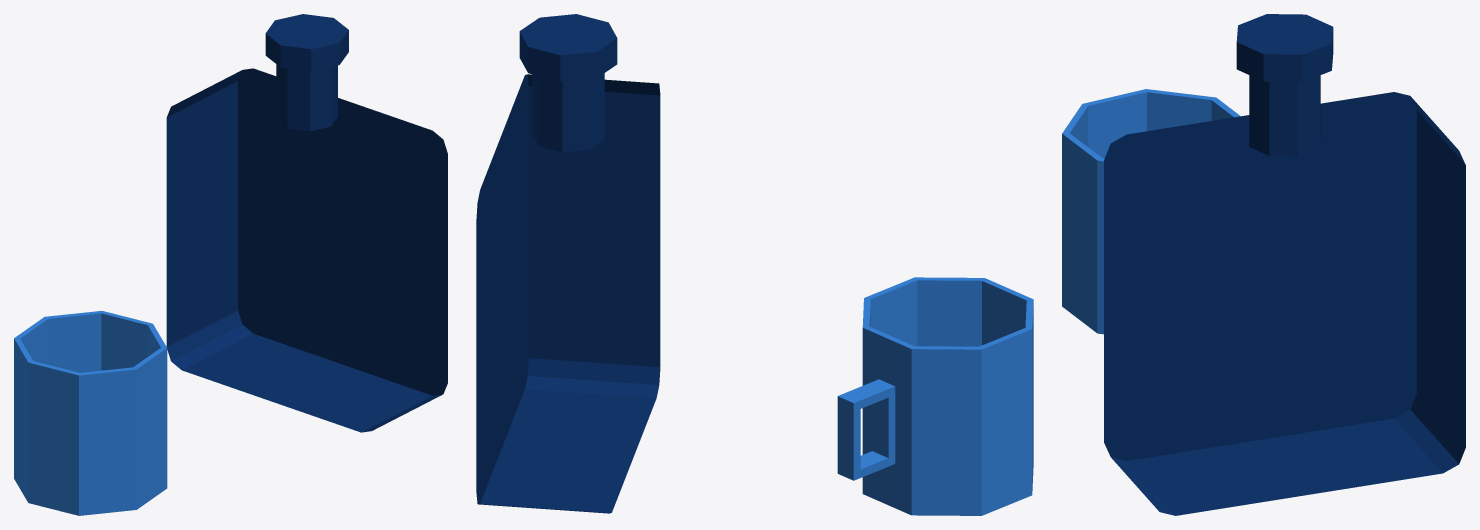
Rendered from Liquid containers.glb.
3 views of the same model, side by side, from view 1: azimuth 30°, elevation 25°; view 2: azimuth 150°, elevation 25°; view 3: azimuth 270°, elevation 25° (orthographic). The views are drawn at different scales.
Parts seen in each view (by area): view 1: Flask, Iron cup; view 2: Flask, Iron cup; view 3: Flask, Iron cup.
Part boxes in pixels (bbox=[...]): Flask: bbox=[166, 14, 447, 432]; Iron cup: bbox=[14, 311, 167, 515]; Flask: bbox=[476, 14, 660, 513]; Iron cup: bbox=[837, 277, 1033, 515]; Flask: bbox=[1104, 14, 1465, 515]; Iron cup: bbox=[1062, 89, 1240, 334].
Size of the model in its own units: 0.2378 by 0.1891 by 0.1599.
Materials: 2 (1 with a texture image).
